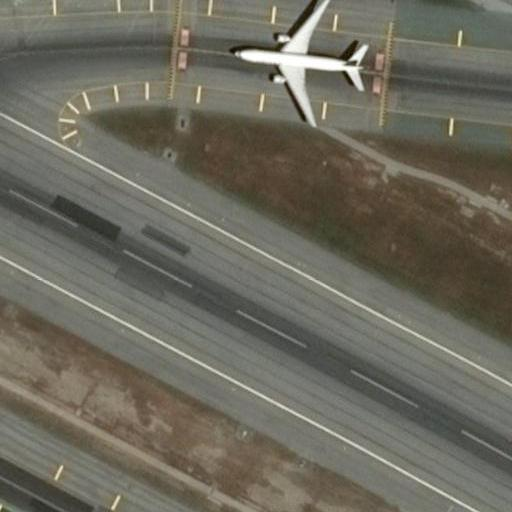Aircraft: (228, 0, 368, 120)
